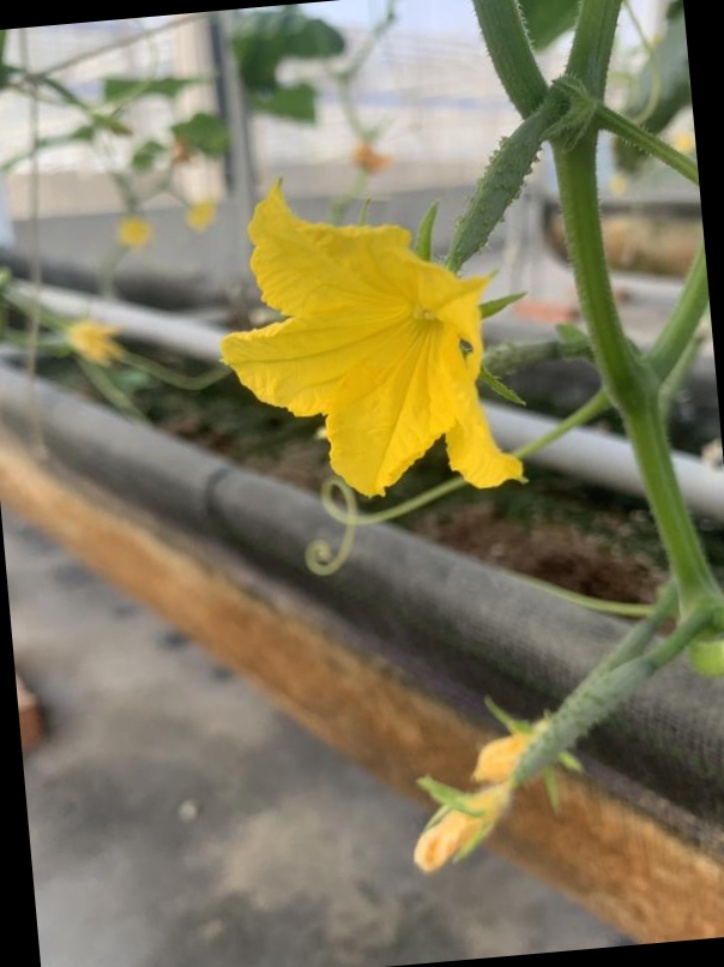bear: (392, 645, 655, 880)
flowering: (221, 112, 570, 526)
